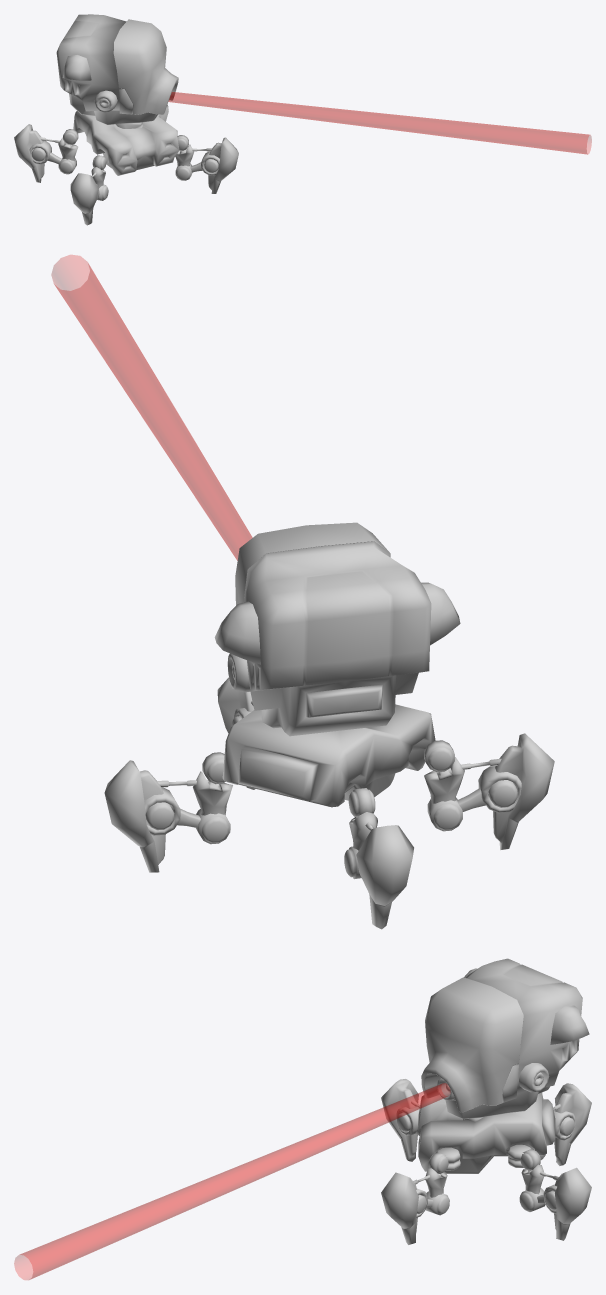
File: sentry.obj
3 views of the same model, one above another, from view 1: azimuth 30°, elevation 25°; view 2: azimuth 150°, elevation 25°; view 3: azimuth 270°, elevation 25° (orthographic). The views are drawn at different scales.
Parts seen in each view (by area): view 1: Cylinder_0_Material.002, Cube_0_Material.001, Cube.004_0_Material.001, Cube.001_0_Material.001, Cube.003_0_Material.001, Cube.006_0_Material.001; view 2: Cube_0_Material.001, Cube.001_0_Material.001, Cube.006_0_Material.001, Cylinder_0_Material.002, Cube.003_0_Material.001, Cube.004_0_Material.001; view 3: Cube.004_0_Material.001, Cylinder_0_Material.002, Cube_0_Material.001, Cube.001_0_Material.001, Cube.006_0_Material.001, Cube.003_0_Material.001.
Part boxes in pixels (left/top/right/bottom): Cylinder_0_Material.002: left=168, top=92, right=591, bottom=154; Cube_0_Material.001: left=56, top=14, right=177, bottom=128; Cube.004_0_Material.001: left=113, top=19, right=178, bottom=114; Cube.001_0_Material.001: left=73, top=111, right=179, bottom=175; Cube.003_0_Material.001: left=70, top=135, right=238, bottom=225; Cube.006_0_Material.001: left=14, top=105, right=168, bottom=182; Cube_0_Material.001: left=214, top=541, right=460, bottom=736; Cube.001_0_Material.001: left=222, top=704, right=435, bottom=807; Cube.006_0_Material.001: left=104, top=752, right=413, bottom=929; Cylinder_0_Material.002: left=51, top=255, right=252, bottom=560; Cube.003_0_Material.001: left=217, top=677, right=554, bottom=850; Cube.004_0_Material.001: left=235, top=522, right=389, bottom=605; Cube.004_0_Material.001: left=421, top=977, right=523, bottom=1112; Cylinder_0_Material.002: left=14, top=1083, right=450, bottom=1279; Cube_0_Material.001: left=424, top=958, right=589, bottom=1122; Cube.001_0_Material.001: left=418, top=1092, right=555, bottom=1173; Cube.006_0_Material.001: left=519, top=1083, right=591, bottom=1240; Cube.003_0_Material.001: left=381, top=1079, right=449, bottom=1244.
Bounding box in the file's own units: 6.67 × 2.62 × 6.37.
